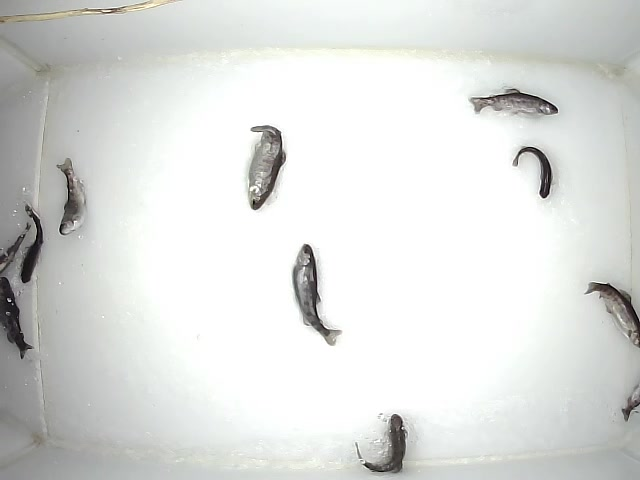fish: (291, 242, 344, 347), (580, 279, 640, 346), (243, 122, 286, 211), (353, 411, 409, 473), (466, 86, 559, 118), (1, 271, 34, 361), (54, 156, 89, 235), (18, 202, 47, 284), (511, 146, 553, 200)
